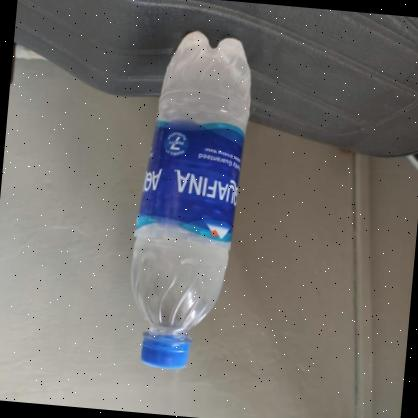bottle: (118, 25, 255, 380)
cap: (135, 328, 195, 375)
label: (138, 118, 242, 243)
